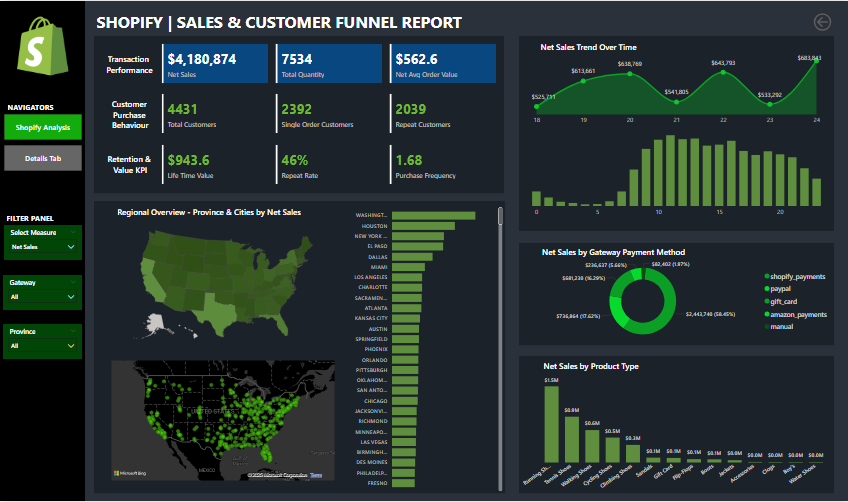

Layout of this report page (visuals, bound fields, positions):
{"tool":"powerbi","page":{"name":"Shopify Analysis","canvas":[1700,1000],"ordinal":0},"visuals":[{"type":"shape","box":[0,0,170,1000],"z":0},{"type":"textbox","box":[187.5,13.8,805,56.2],"z":1000},{"type":"shape","box":[187.5,70,820,315],"z":2000},{"type":"cardVisual","fields":{"Data":["shopify_sales.Net Sales","shopify_sales.Total Quantity","shopify_sales.Net Avg Order Value"]},"box":[317.8,80,680,90],"z":3000},{"type":"card","fields":{"Values":["shopify_sales.Transaction Perf"]},"box":[200,95.6,117.8,60],"z":4000},{"type":"cardVisual","fields":{"Data":["shopify_sales.Total Customers","shopify_sales.Single Order Customers","shopify_sales.Repeat Customers"]},"box":[318.1,181,680,89.6],"z":5000},{"type":"cardVisual","fields":{"Data":["shopify_sales.Life Time Value","shopify_sales.Repeat Rate","shopify_sales.Purchase Frequency"]},"box":[318.1,281.5,680,89.6],"z":6000},{"type":"card","fields":{"Values":["shopify_sales.Customer Purchase Behaviour"]},"box":[201.1,181,117,89.6],"z":7000},{"type":"card","fields":{"Values":["shopify_sales.Retention & Value KPI"]},"box":[201.1,281.5,117,89.6],"z":8000},{"type":"shape","box":[187.5,400,822.5,585],"z":9000},{"type":"shapeMap","fields":{"Value":["shopify_sales.Net Sales"],"Category":["shopify_sales.Billing Address Province"]},"box":[218,442,456,250],"z":10000},{"type":"slicer","fields":{"Values":["Select Measure.Select Measure"]},"box":[8,448,156,70],"z":11000},{"type":"map","fields":{"Category":["shopify_sales.Location"]},"box":[218,714,456,250],"z":12000},{"type":"clusteredBarChart","fields":{"Y":["shopify_sales.Net Sales"],"Category":["shopify_sales.CITY"]},"box":[692,400,318,586],"z":13000},{"type":"card","fields":{"Values":["shopify_sales.Map Title"]},"box":[170,386,496,74],"z":14000},{"type":"shape","box":[1038,70,630,390],"z":15000},{"type":"areaChart","fields":{"Y":["shopify_sales.Net Sales"],"Category":["shopify_sales.Invoice Date.Variation.Date Hierarchy.Day"]},"box":[1058,96,590,160],"z":16000},{"type":"columnChart","fields":{"Y":["shopify_sales.Net Sales"],"Category":["shopify_sales.Hour"]},"box":[1058,240,590,200],"z":17000},{"type":"card","fields":{"Values":["shopify_sales.Trend Title"]},"box":[1044,72,266,42],"z":18000},{"type":"shape","box":[1038.3,483.3,630,205],"z":19000},{"type":"donutChart","fields":{"Y":["shopify_sales.Net Sales"],"Category":["shopify_sales.Gateway"]},"box":[1038.3,510,630,180],"z":20000},{"type":"card","fields":{"Values":["shopify_sales.Gateway Title"]},"box":[1038.3,483.3,378.3,41.7],"z":21000},{"type":"shape","box":[1037.5,710,630,275],"z":22000},{"type":"columnChart","fields":{"Y":["shopify_sales.Net Sales"],"Category":["shopify_sales.Product Type"]},"box":[1038,730,630,256],"z":23000},{"type":"card","fields":{"Values":["shopify_sales.Product Title"]},"box":[1048,710,268,44],"z":24000},{"type":"image","box":[24,26,122,128],"z":25000},{"type":"slicer","fields":{"Values":["shopify_sales.Gateway"]},"box":[6,547,158,70],"z":26000},{"type":"slicer","fields":{"Values":["shopify_sales.Billing Address Province"]},"box":[6,646,158,70],"z":27000},{"type":"pageNavigator","box":[8,226,156,114],"z":28000},{"type":"actionButton","box":[1622,14,46,56],"z":29000},{"type":"textbox","box":[10.8,195.3,145.2,35.8],"z":30000},{"type":"textbox","box":[9,417.6,147,32.3],"z":31000}]}

Visuals, with their boxes on the page's 1700x1000 design canvas (x1, y1, x2, y2). These are canvas units, not pixel positions in the 848x502 screenshot, which may show the page scaled, cropped or inside an application window:
shape: pyautogui.locateOnScreen(0, 0, 170, 1000)
textbox: pyautogui.locateOnScreen(188, 14, 992, 70)
shape: pyautogui.locateOnScreen(188, 70, 1008, 385)
cardVisual - shopify_sales.Net Sales x shopify_sales.Total Quantity: pyautogui.locateOnScreen(318, 80, 998, 170)
card - shopify_sales.Transaction Perf: pyautogui.locateOnScreen(200, 96, 318, 156)
cardVisual - shopify_sales.Total Customers x shopify_sales.Single Order Customers: pyautogui.locateOnScreen(318, 181, 998, 271)
cardVisual - shopify_sales.Life Time Value x shopify_sales.Repeat Rate: pyautogui.locateOnScreen(318, 282, 998, 371)
card - shopify_sales.Customer Purchase Behaviour: pyautogui.locateOnScreen(201, 181, 318, 271)
card - shopify_sales.Retention & Value KPI: pyautogui.locateOnScreen(201, 282, 318, 371)
shape: pyautogui.locateOnScreen(188, 400, 1010, 985)
shapeMap - shopify_sales.Net Sales x shopify_sales.Billing Address Province: pyautogui.locateOnScreen(218, 442, 674, 692)
slicer - Select Measure.Select Measure: pyautogui.locateOnScreen(8, 448, 164, 518)
map - shopify_sales.Location: pyautogui.locateOnScreen(218, 714, 674, 964)
clusteredBarChart - shopify_sales.Net Sales x shopify_sales.CITY: pyautogui.locateOnScreen(692, 400, 1010, 986)
card - shopify_sales.Map Title: pyautogui.locateOnScreen(170, 386, 666, 460)
shape: pyautogui.locateOnScreen(1038, 70, 1668, 460)
areaChart - shopify_sales.Net Sales x shopify_sales.Invoice Date.Variation.Date Hierarchy.Day: pyautogui.locateOnScreen(1058, 96, 1648, 256)
columnChart - shopify_sales.Net Sales x shopify_sales.Hour: pyautogui.locateOnScreen(1058, 240, 1648, 440)
card - shopify_sales.Trend Title: pyautogui.locateOnScreen(1044, 72, 1310, 114)
shape: pyautogui.locateOnScreen(1038, 483, 1668, 688)
donutChart - shopify_sales.Net Sales x shopify_sales.Gateway: pyautogui.locateOnScreen(1038, 510, 1668, 690)
card - shopify_sales.Gateway Title: pyautogui.locateOnScreen(1038, 483, 1417, 525)
shape: pyautogui.locateOnScreen(1038, 710, 1668, 985)
columnChart - shopify_sales.Net Sales x shopify_sales.Product Type: pyautogui.locateOnScreen(1038, 730, 1668, 986)
card - shopify_sales.Product Title: pyautogui.locateOnScreen(1048, 710, 1316, 754)
image: pyautogui.locateOnScreen(24, 26, 146, 154)
slicer - shopify_sales.Gateway: pyautogui.locateOnScreen(6, 547, 164, 617)
slicer - shopify_sales.Billing Address Province: pyautogui.locateOnScreen(6, 646, 164, 716)
pageNavigator: pyautogui.locateOnScreen(8, 226, 164, 340)
actionButton: pyautogui.locateOnScreen(1622, 14, 1668, 70)
textbox: pyautogui.locateOnScreen(11, 195, 156, 231)
textbox: pyautogui.locateOnScreen(9, 418, 156, 450)
